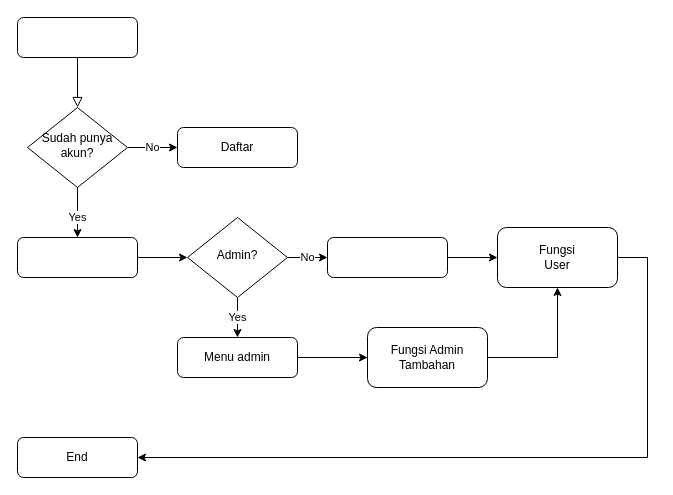
Some shapes in this 673 by 495 pixel diagram are drawn without their labels. Each missing label, with the centre of its shape:
Login: the point at 77,257
Main: the point at 77,37
Menu user: the point at 387,257
